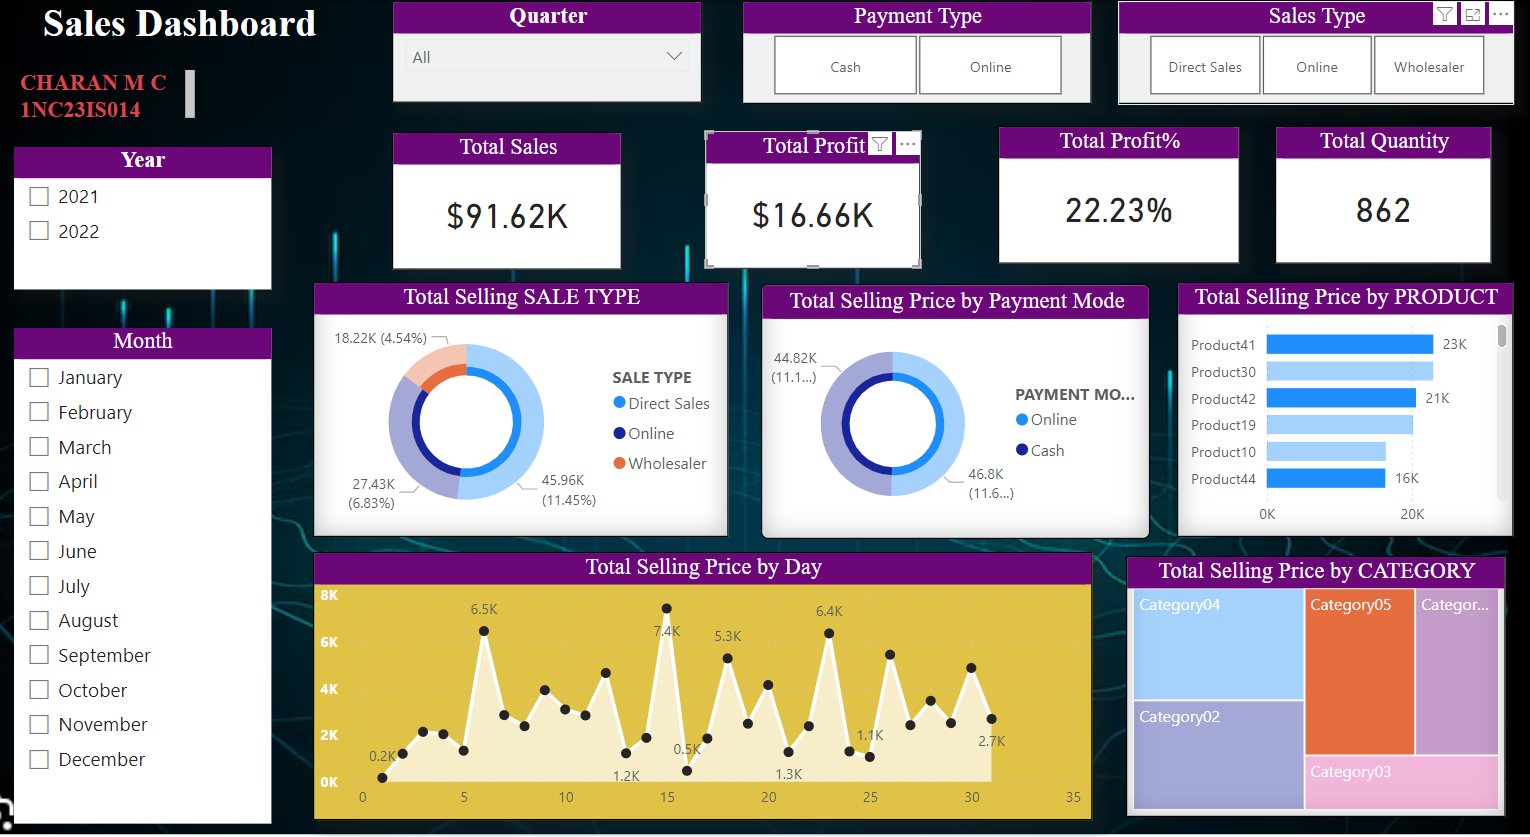

The dashboard page shown, as its layout file describes it:
{"tool":"powerbi","page":{"name":"Page 1","canvas":[1280,720],"ordinal":0},"visuals":[{"type":"card","title":"Total Sales ","fields":{"Values":["input data.Total Sales"]},"box":[328.6,119.9,192.3,114.7],"z":0},{"type":"card","title":"Total Profit ","fields":{"Values":["input data.Total Profit"]},"box":[590,119,180.3,114.7],"z":1000},{"type":"card","title":"Total Profit%","fields":{"Values":["input data.Profit %"]},"box":[834.3,115.3,201.7,115.3],"z":2000},{"type":"card","title":"Total Quantity","fields":{"Values":["input data.Total Quantity"]},"box":[1066.2,115.3,181.1,115.3],"z":3000},{"type":"slicer","title":"Quarter","fields":{"Values":["input data.DATE"]},"box":[328,11,259.3,85.1],"z":4000},{"type":"slicer","title":"Payment Type ","fields":{"Values":["input data.PAYMENT MODE"]},"box":[620.2,11,292.3,86.4],"z":5000},{"type":"slicer","title":"Sales Type","fields":{"Values":["input data.SELLING TYPE"]},"box":[934.5,11,330.7,86.4],"z":6000},{"type":"slicer","title":"Year ","fields":{"Values":["input data.DATE.Variation.Date Hierarchy.Year"]},"box":[12.3,133.1,215.4,119.4],"z":7000},{"type":"slicer","title":"Month","fields":{"Values":["input data.DATE.Variation.Date Hierarchy.Month"]},"box":[12.3,284,215.4,414.4],"z":8000},{"type":"donutChart","title":"Total Selling SALE TYPE","fields":{"Y":["Sum(input data.Total Selling Price)"],"Category":["input data.SELLING TYPE"]},"box":[262.1,245.6,347.2,212.7],"z":9000},{"type":"donutChart","title":"Total Selling Price by Payment Mode","fields":{"Y":["Sum(input data.Total Selling Price)"],"Category":["input data.PAYMENT MODE"]},"box":[636.7,247,325.2,212.7],"z":10000},{"type":"clusteredBarChart","title":"Total Selling Price by PRODUCT","fields":{"Y":["Sum(input data.Total Selling Price)"],"Category":["input data.PRODUCT"]},"box":[983.9,245.6,281.3,212.7],"z":11000},{"type":"areaChart","title":"Total Selling Price by Day","fields":{"Y":["Sum(input data.Total Selling Price)"],"Category":["input data.DATE.Variation.Date Hierarchy.Day"]},"box":[262.3,471.1,650.7,223.9],"z":12000},{"type":"treemap","title":"Total Selling Price by CATEGORY","fields":{"Values":["Sum(input data.Total Selling Price)"],"Group":["input data.CATEGORY"]},"box":[941.3,474.4,317.4,218],"z":13000},{"type":"textbox","box":[0,5.5,301.9,48],"z":14000},{"type":"textbox","box":[12.9,63.8,156.1,51.8],"z":15000}]}

Visuals, with their boxes in screenshot pixels (x1, y1, x2, y2), scaled from the page's 1280x720 canvas onto the 1530x837 screenshot:
"Total Sales " card: (393, 139, 623, 273)
"Total Profit " card: (705, 138, 921, 272)
"Total Profit%" card: (997, 134, 1238, 268)
"Total Quantity" card: (1274, 134, 1491, 268)
"Quarter" slicer: (392, 13, 702, 112)
"Payment Type " slicer: (741, 13, 1091, 113)
"Sales Type" slicer: (1117, 13, 1512, 113)
"Year " slicer: (15, 155, 272, 294)
"Month" slicer: (15, 330, 272, 812)
"Total Selling SALE TYPE" donutChart: (313, 286, 728, 533)
"Total Selling Price by Payment Mode" donutChart: (761, 287, 1150, 534)
"Total Selling Price by PRODUCT" clusteredBarChart: (1176, 286, 1512, 533)
"Total Selling Price by Day" areaChart: (314, 548, 1091, 808)
"Total Selling Price by CATEGORY" treemap: (1125, 551, 1505, 805)
textbox: (0, 6, 361, 62)
textbox: (15, 74, 202, 134)
